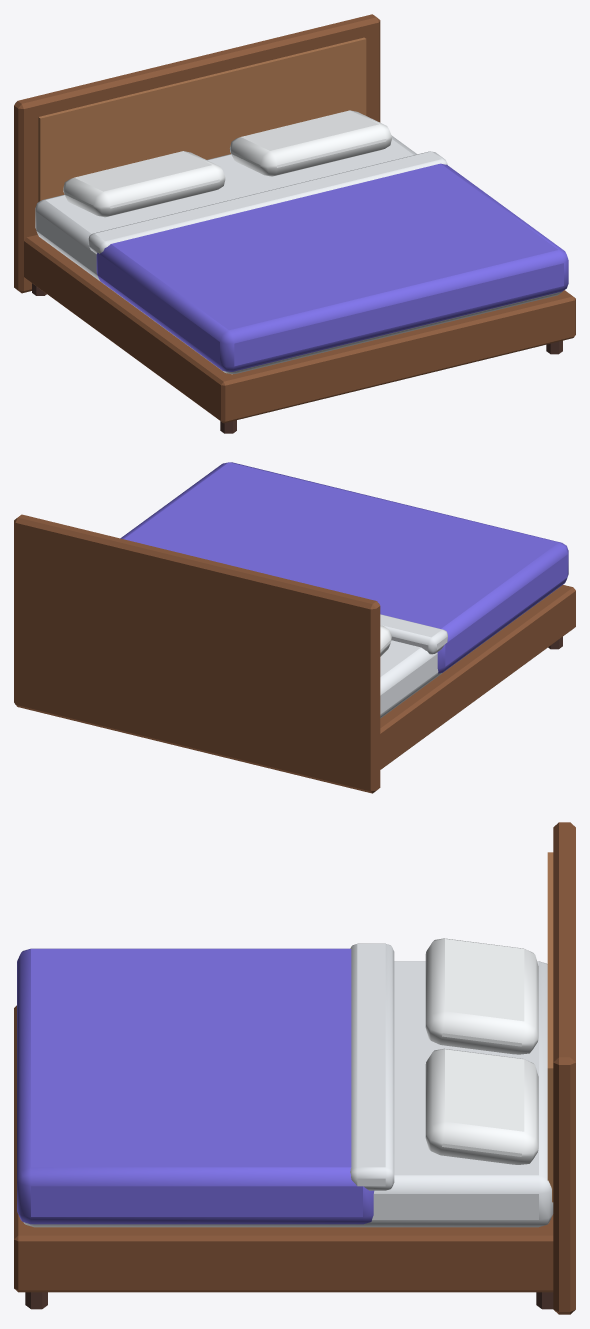
The model's file is bed.glb.
3 renders of one model, top to bottom at view 1: azimuth 30°, elevation 25°; view 2: azimuth 150°, elevation 25°; view 3: azimuth 270°, elevation 25°, orthographic. The views are drawn at different scales.
Parts seen in each view (by area): view 1: bed; view 2: bed; view 3: bed.
Boxes of the visible parts, x1,y1,x2,y2 form: bed: (14, 14, 575, 433); bed: (14, 462, 575, 793); bed: (14, 822, 575, 1314).
Bounding box in the file's own units: 2 × 1 × 1.98.
